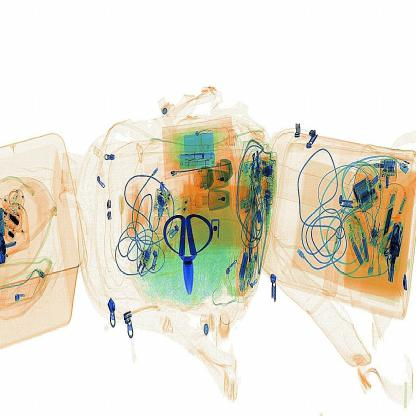gun: (156, 210, 223, 308)
